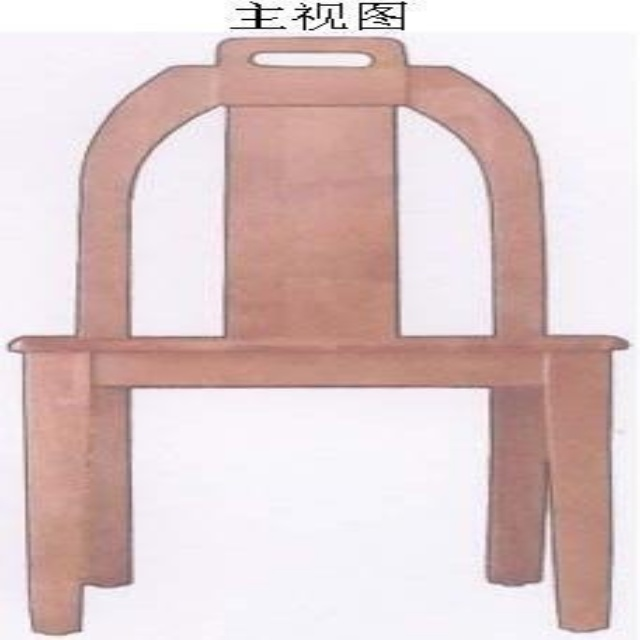obstacle: (11, 38, 623, 633)
